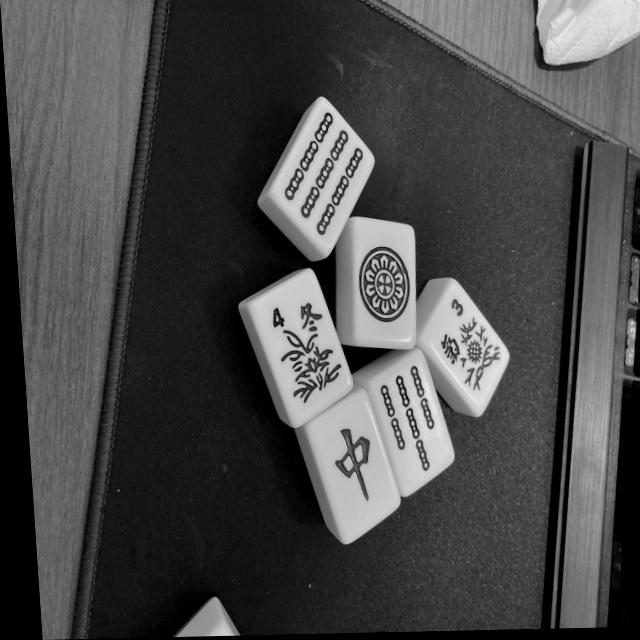f3: (416, 284, 513, 411)
ff4: (249, 272, 357, 425)
s7: (362, 352, 457, 495)
s9: (261, 98, 381, 253)
t1: (334, 218, 423, 352)
zhong: (306, 393, 407, 545)
